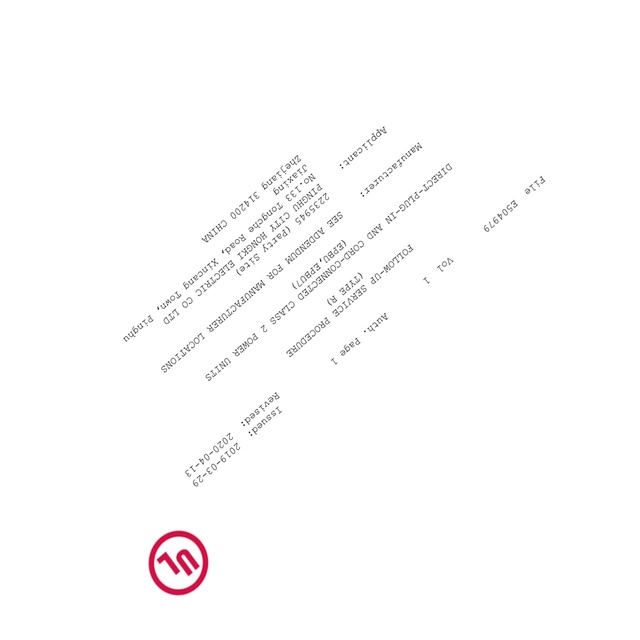ul: (148, 528, 209, 597)
